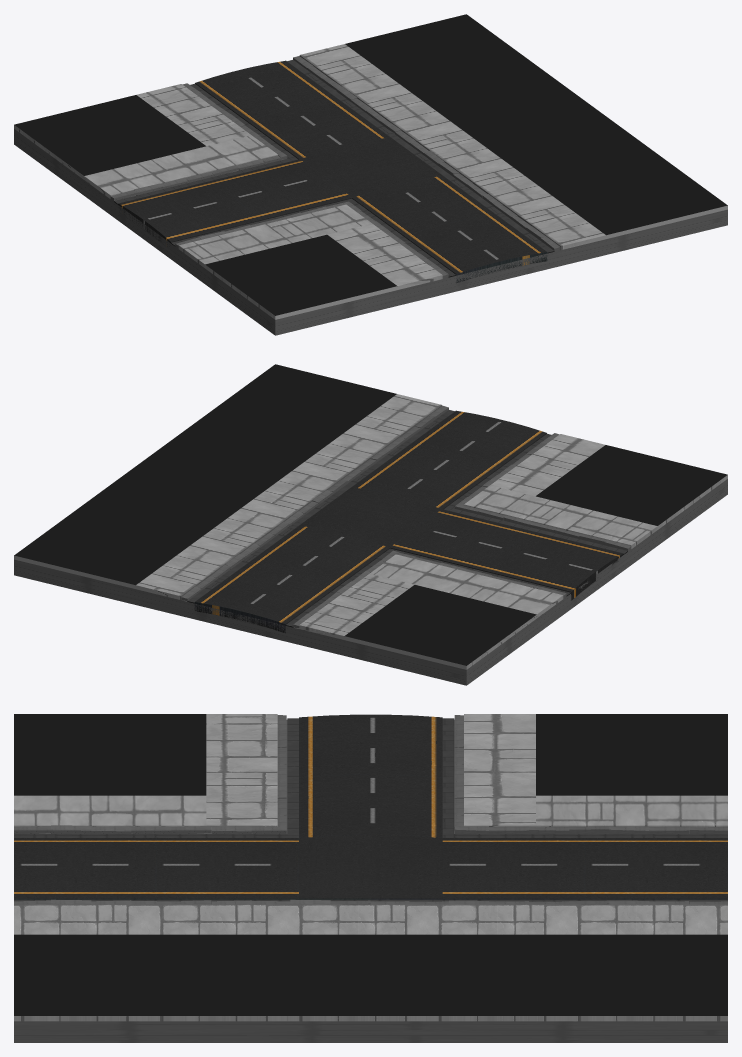
The model's file is Tile_T-junction.FBX.
The picture shows the model from 3 angles, top to bottom: view 1: azimuth 30°, elevation 25°; view 2: azimuth 150°, elevation 25°; view 3: azimuth 270°, elevation 25°; orthographic projection. The views are drawn at different scales.
Visible parts, largest first — view 1: Tile_T-junction; view 2: Tile_T-junction; view 3: Tile_T-junction.
Part boxes in pixels (left/top/right/bottom): Tile_T-junction: left=14, top=14, right=727, bottom=335; Tile_T-junction: left=14, top=364, right=727, bottom=685; Tile_T-junction: left=14, top=714, right=727, bottom=1042.
Size of the model in its own units: 1181 by 1181 by 50.08.
